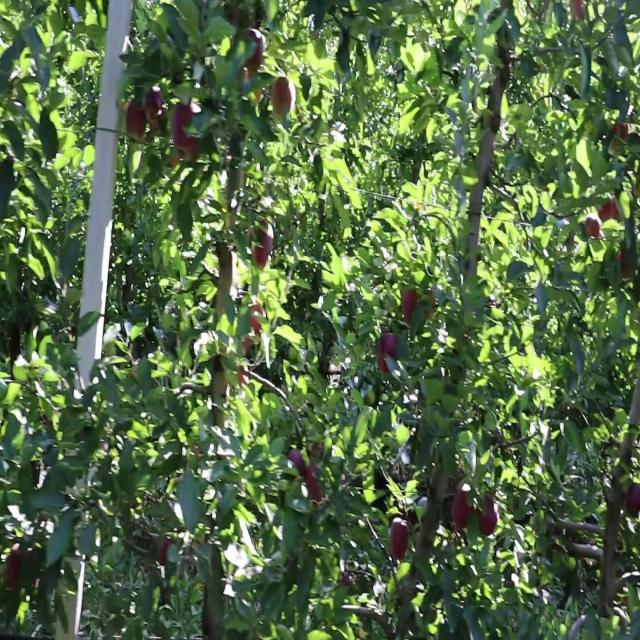apple: (172, 106, 200, 160), (240, 28, 265, 80), (452, 490, 474, 533), (252, 227, 273, 270), (272, 78, 293, 119), (4, 547, 24, 590), (480, 497, 500, 539), (392, 519, 411, 562), (380, 334, 399, 377), (148, 92, 166, 133), (308, 462, 324, 505), (128, 106, 147, 142), (288, 447, 305, 478), (404, 291, 419, 325), (248, 305, 265, 334), (600, 199, 619, 222), (160, 540, 173, 569), (628, 483, 640, 514), (612, 120, 628, 142), (588, 220, 602, 242), (620, 248, 629, 279), (244, 334, 254, 356), (168, 156, 181, 171), (572, 7, 585, 21), (240, 369, 248, 384)
